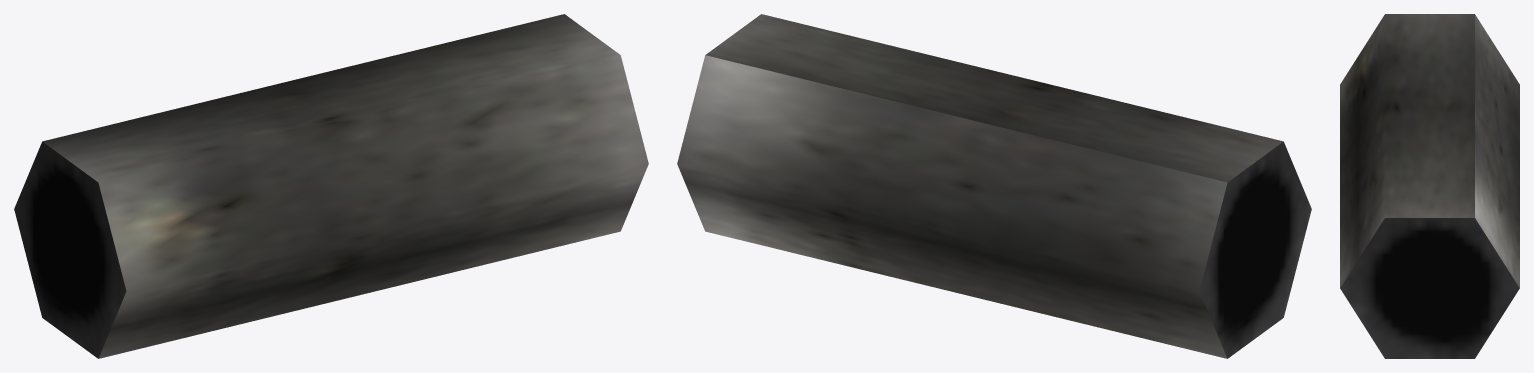
The model's file is bullet_particle.FBX.
The picture shows the model from 3 angles, left to right: view 1: azimuth 30°, elevation 25°; view 2: azimuth 150°, elevation 25°; view 3: azimuth 270°, elevation 25°; orthographic projection. The views are drawn at different scales.
Parts seen in each view (by area): view 1: Cylinder001; view 2: Cylinder001; view 3: Cylinder001.
Boxes of the visible parts, x1,y1,x2,y2 form: Cylinder001: [14, 14, 648, 358]; Cylinder001: [677, 14, 1311, 358]; Cylinder001: [1340, 14, 1519, 358].
Bounding box in the file's own units: 10.56 × 3.41 × 3.94.
